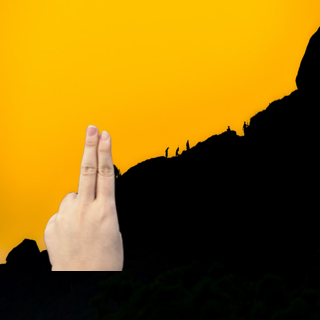DHAVE: (38, 121, 128, 269)
